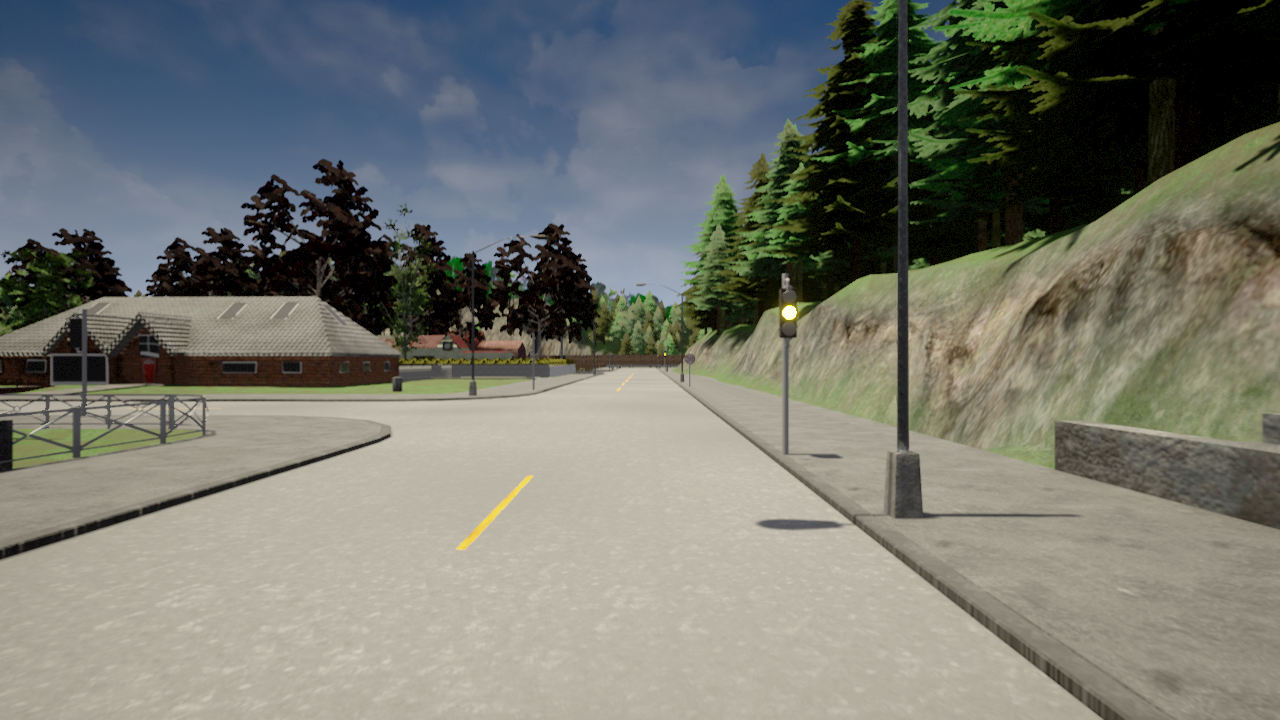yellow: (778, 286, 799, 339)
